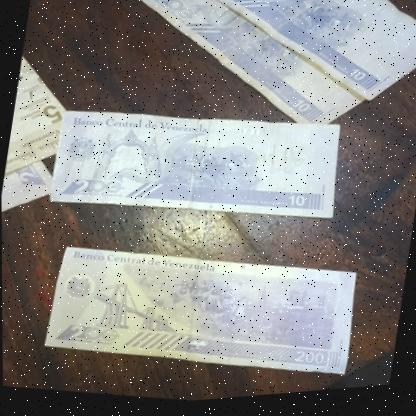five-front-vef: (3, 52, 96, 187)
ten-back-vef: (45, 86, 348, 247), (112, 0, 405, 151), (138, 0, 416, 132), (1, 149, 59, 225)
two_hundred-back-vef: (41, 226, 361, 399)
